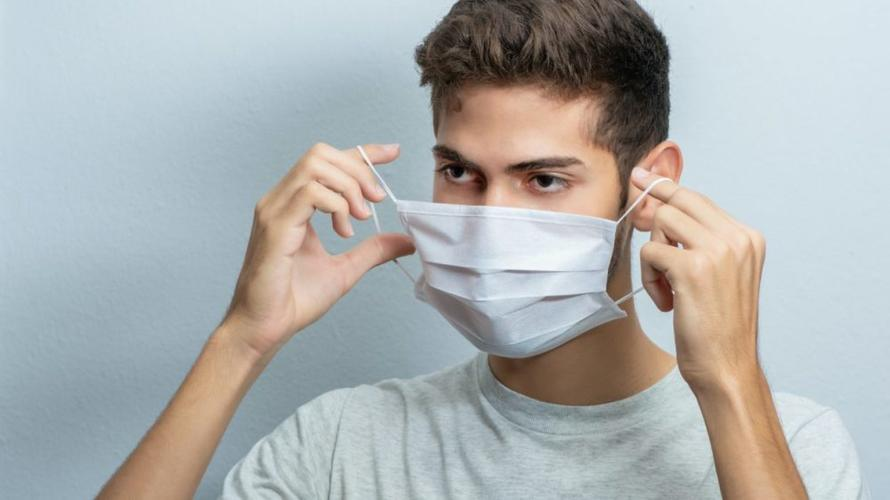mask: (409, 69, 638, 362)
